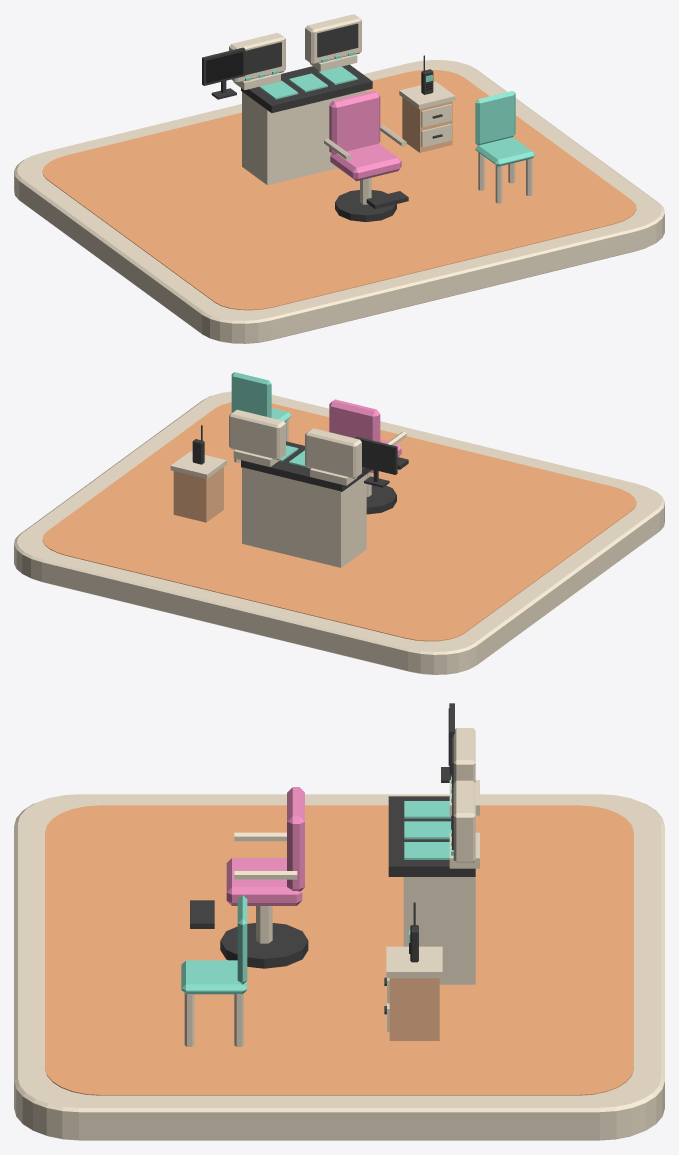
3 renders of one model, top to bottom at view 1: azimuth 30°, elevation 25°; view 2: azimuth 150°, elevation 25°; view 3: azimuth 270°, elevation 25°, orthographic. The views are drawn at different scales.
Parts seen in each view (by area): view 1: COM-02 Floor Surface, COM-01 Rounded Base Direct, Console, Back, Panel, Backrest, Seat, Frame, Housing.001, Body, Base, Seat.001 (+6 smaller); view 2: COM-02 Floor Surface, COM-01 Rounded Base Direct, Console, Housing, Housing.001, Body, Back, Backrest, Panel, Frame, Top, Base; view 3: COM-02 Floor Surface, COM-01 Rounded Base Direct, Console, Body, Panel, Base, Seat, Seat.001, Housing.001, Back, Top, Housing (+5 smaller).
Part boxes in pixels (left/top/right/bottom): COM-02 Floor Surface: left=42, top=69, right=636, bottom=310; COM-01 Rounded Base Direct: left=14, top=60, right=664, bottom=343; Console: left=242, top=90, right=366, bottom=185; Back: left=329, top=90, right=380, bottom=154; Panel: left=241, top=64, right=372, bottom=112; Backrest: left=475, top=91, right=515, bottom=145; Seat: left=330, top=143, right=401, bottom=181; Frame: left=202, top=47, right=245, bottom=99; Housing.001: left=305, top=14, right=361, bottom=64; Body: left=402, top=97, right=452, bottom=152; Base: left=335, top=190, right=396, bottom=221; Seat.001: left=475, top=137, right=535, bottom=166; COM-02 Floor Surface: left=42, top=402, right=636, bottom=641; COM-01 Rounded Base Direct: left=14, top=391, right=664, bottom=674; Console: left=242, top=467, right=366, bottom=567; Housing: left=305, top=428, right=361, bottom=478; Housing.001: left=229, top=409, right=285, bottom=460; Body: left=173, top=467, right=223, bottom=522; Back: left=329, top=399, right=380, bottom=441; Backrest: left=231, top=372, right=271, bottom=417; Panel: left=241, top=441, right=372, bottom=491; Frame: left=355, top=436, right=397, bottom=487; Top: left=170, top=451, right=226, bottom=478; Base: left=366, top=485, right=396, bottom=514; COM-02 Floor Surface: left=45, top=805, right=633, bottom=1095; COM-01 Rounded Base Direct: left=14, top=794, right=664, bottom=1140; Console: left=403, top=877, right=475, bottom=984; Body: left=389, top=978, right=439, bottom=1040; Panel: left=388, top=796, right=475, bottom=876; Base: left=220, top=923, right=308, bottom=968; Seat: left=226, top=858, right=302, bottom=905; Seat.001: left=181, top=960, right=247, bottom=994; Housing.001: left=453, top=780, right=475, bottom=862; Back: left=287, top=787, right=304, bottom=891; Top: left=386, top=946, right=442, bottom=978; Housing: left=453, top=728, right=475, bottom=783.
Bounding box in the file's own units: 6 × 1.88 × 5.2.
Materials: 1 (1 with a texture image).
